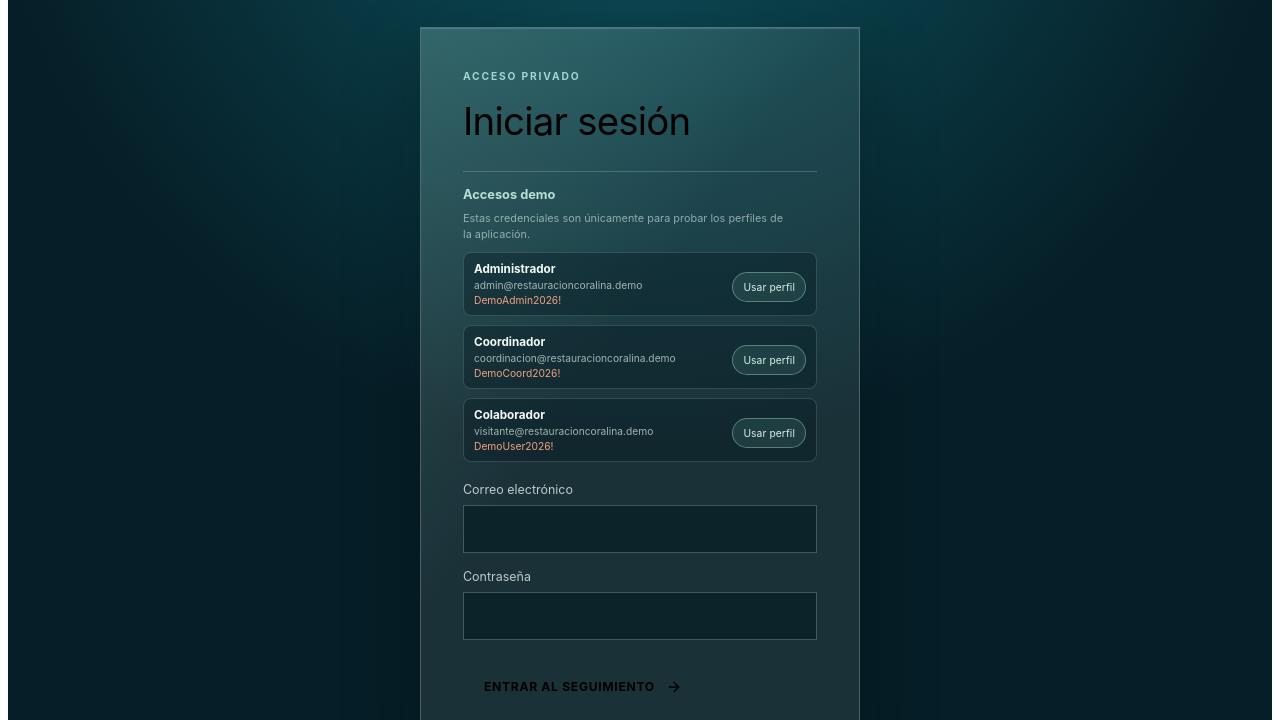
Test: LoginPage › carga correo y contraseña al elegir un perfil demo
The image size is (1280, 720).
(page scrolled)
Click the button "Usar perfil" next to "coordinacion@restauracioncoralina.demo". click: (769, 360)
box: [732,345,806,375]
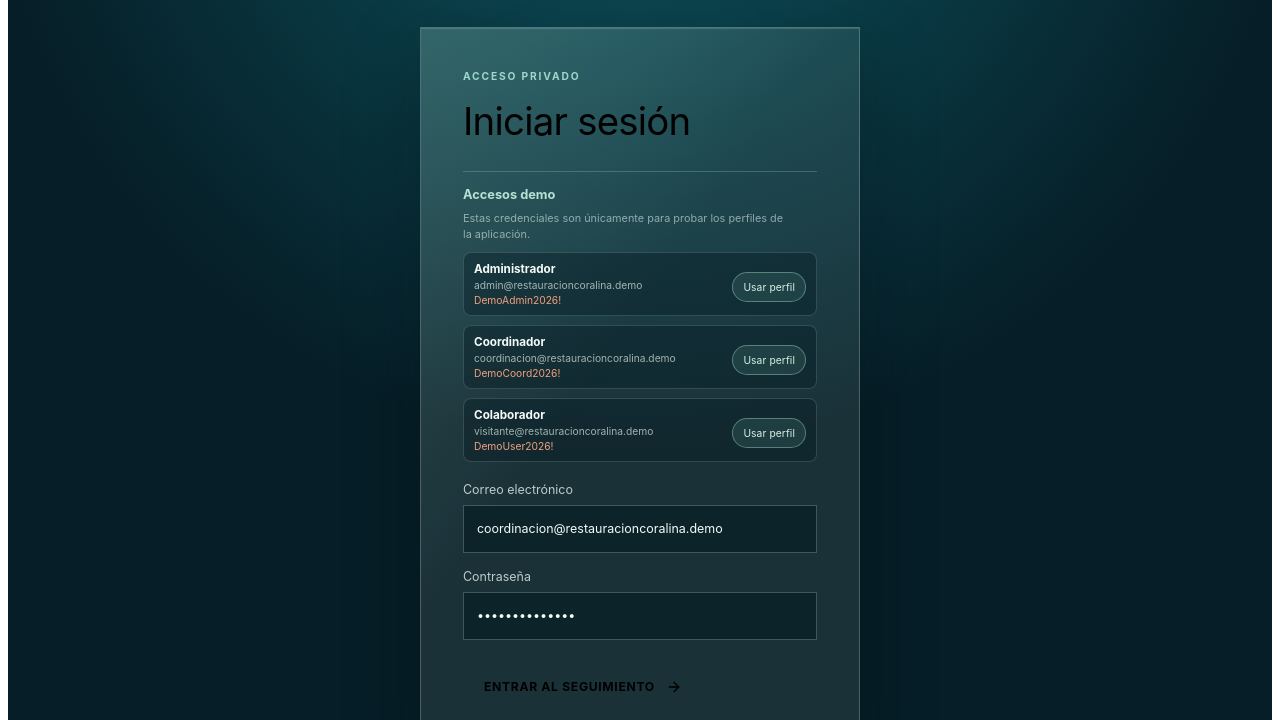
Result: the field labelled "Correo electrónico" holds "coordinacion@restauracioncoralina.demo" at [463,504,817,552]
Result: the password field labelled "Contraseña" holds "DemoCoord2026!" at [463,592,817,640]
